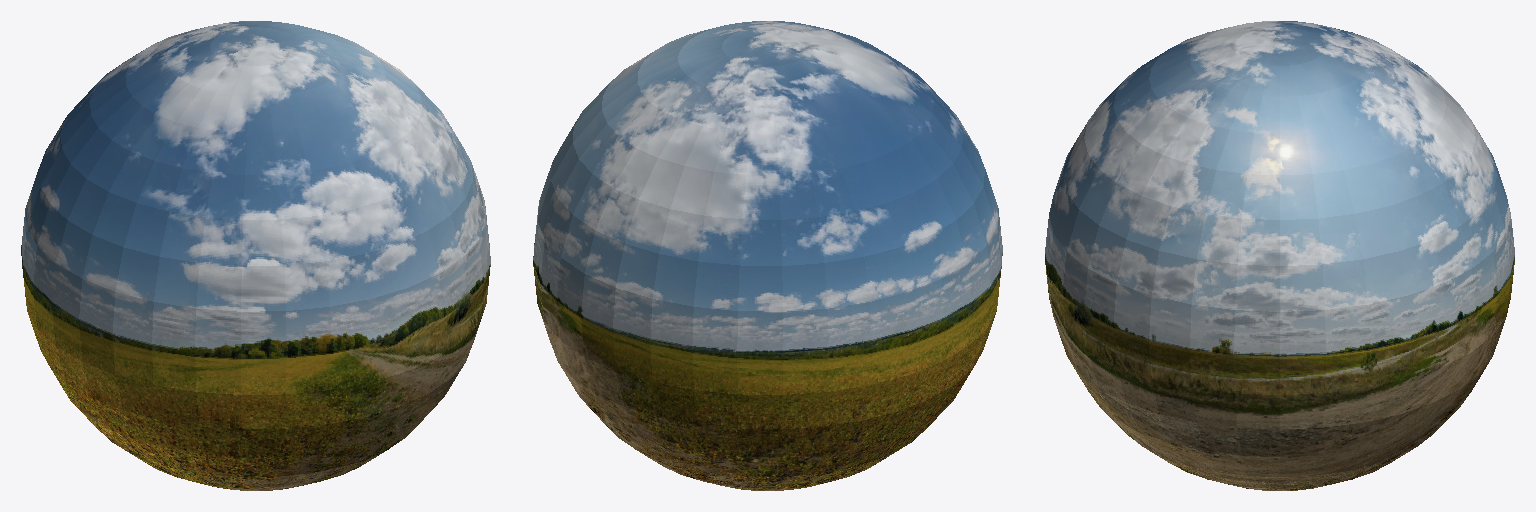
3 views of the same model, side by side, from view 1: azimuth 30°, elevation 25°; view 2: azimuth 150°, elevation 25°; view 3: azimuth 270°, elevation 25° (orthographic).
Parts seen in each view (by area): view 1: Sphere; view 2: Sphere; view 3: Sphere.
Boxes of the visible parts, x1=… form: Sphere: x1=21, y1=21, x2=490, y2=490; Sphere: x1=533, y1=21, x2=1002, y2=490; Sphere: x1=1045, y1=21, x2=1514, y2=490.
Size of the model in its own units: 2 by 2 by 2.
Materials: 1 (1 with a texture image).